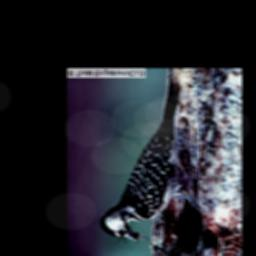Woodpecker: (98, 82, 191, 244)
